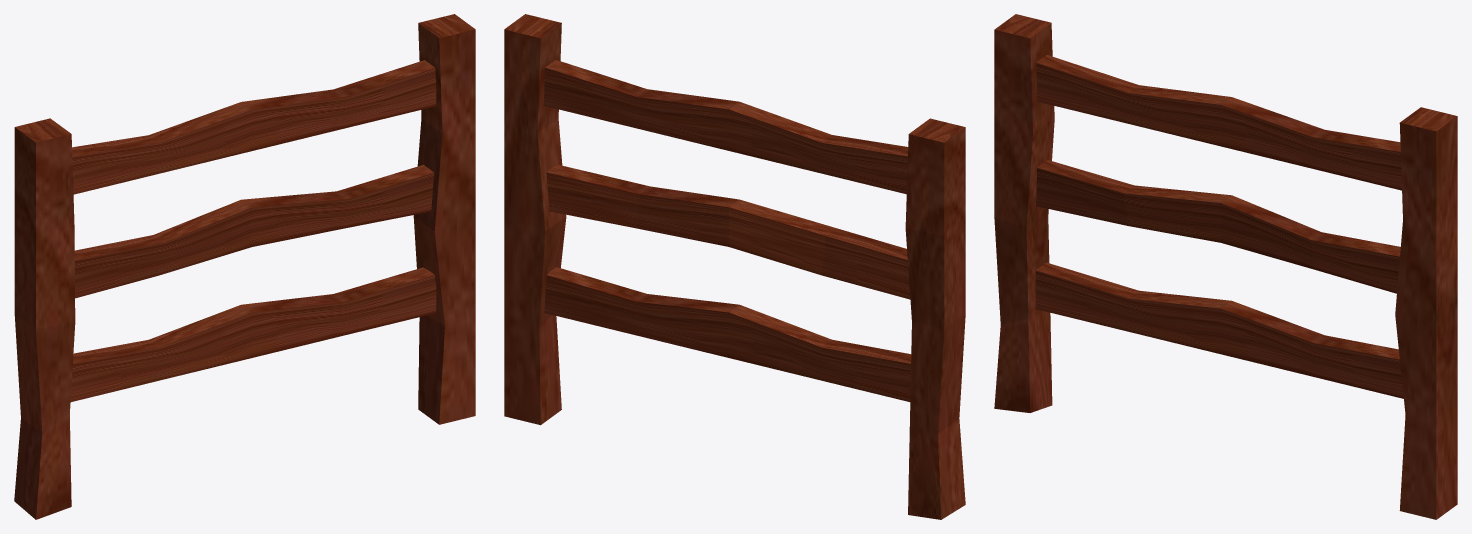
Rendered from richfencebent.fbx.
The picture shows the model from 3 angles, left to right: view 1: azimuth 30°, elevation 25°; view 2: azimuth 150°, elevation 25°; view 3: azimuth 330°, elevation 25°; orthographic projection.
Visible parts, largest first — view 1: Cube.015, Cube.016, Cube.019, Cube.017, Cube.018; view 2: Cube.015, Cube.016, Cube.018, Cube.019, Cube.017; view 3: Cube.016, Cube.015, Cube.019, Cube.017, Cube.018.
Boxes of the visible parts, left/top/right/bottom form: Cube.015: left=14, top=118, right=75, bottom=519; Cube.016: left=413, top=14, right=475, bottom=424; Cube.019: left=70, top=267, right=436, bottom=401; Cube.017: left=72, top=60, right=436, bottom=194; Cube.018: left=74, top=165, right=434, bottom=298; Cube.015: left=905, top=118, right=965, bottom=519; Cube.016: left=504, top=14, right=566, bottom=425; Cube.018: left=546, top=164, right=910, bottom=299; Cube.019: left=544, top=267, right=911, bottom=401; Cube.017: left=544, top=60, right=908, bottom=194; Cube.016: left=1395, top=107, right=1457, bottom=519; Cube.015: left=994, top=14, right=1054, bottom=412; Cube.019: left=1035, top=262, right=1403, bottom=398; Cube.017: left=1036, top=55, right=1401, bottom=190; Cube.018: left=1036, top=160, right=1400, bottom=293.
Size of the model in its own units: 595 by 500 by 62.75.
